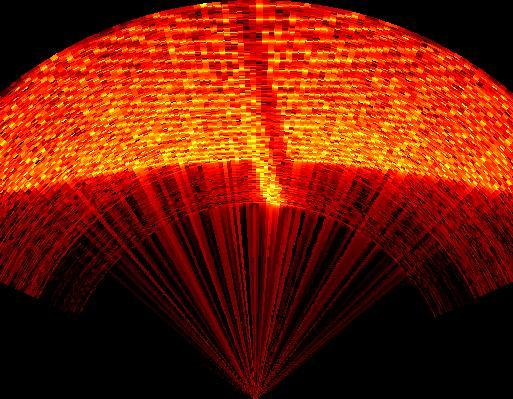pipe: (226, 2, 297, 186)
